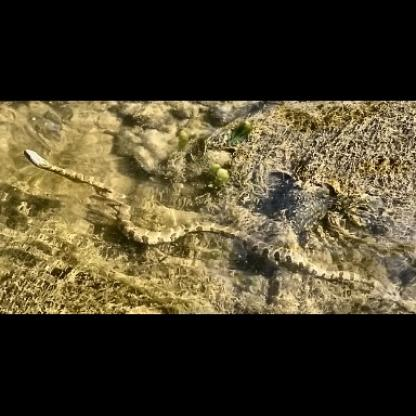Snake: (19, 146, 388, 289)
